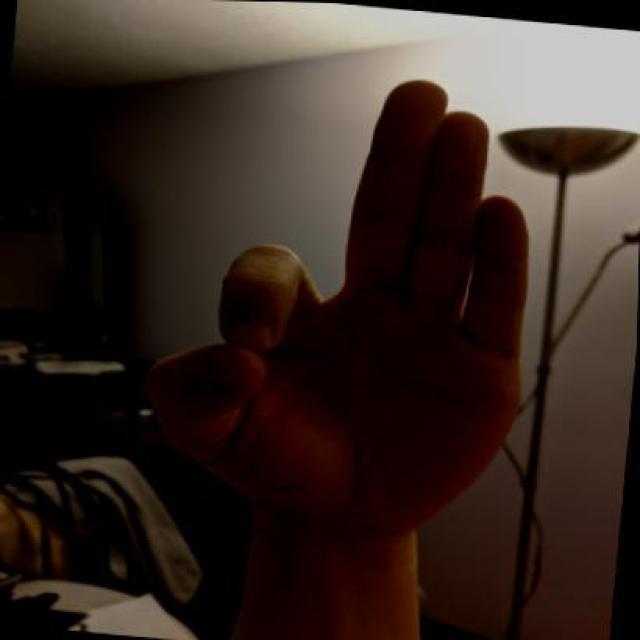F: (124, 22, 537, 590)
